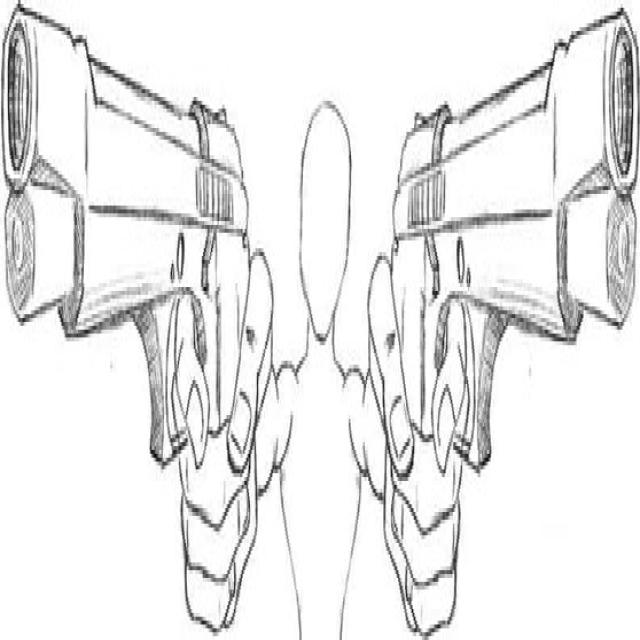gun: (0, 4, 258, 636), (382, 27, 611, 566)
